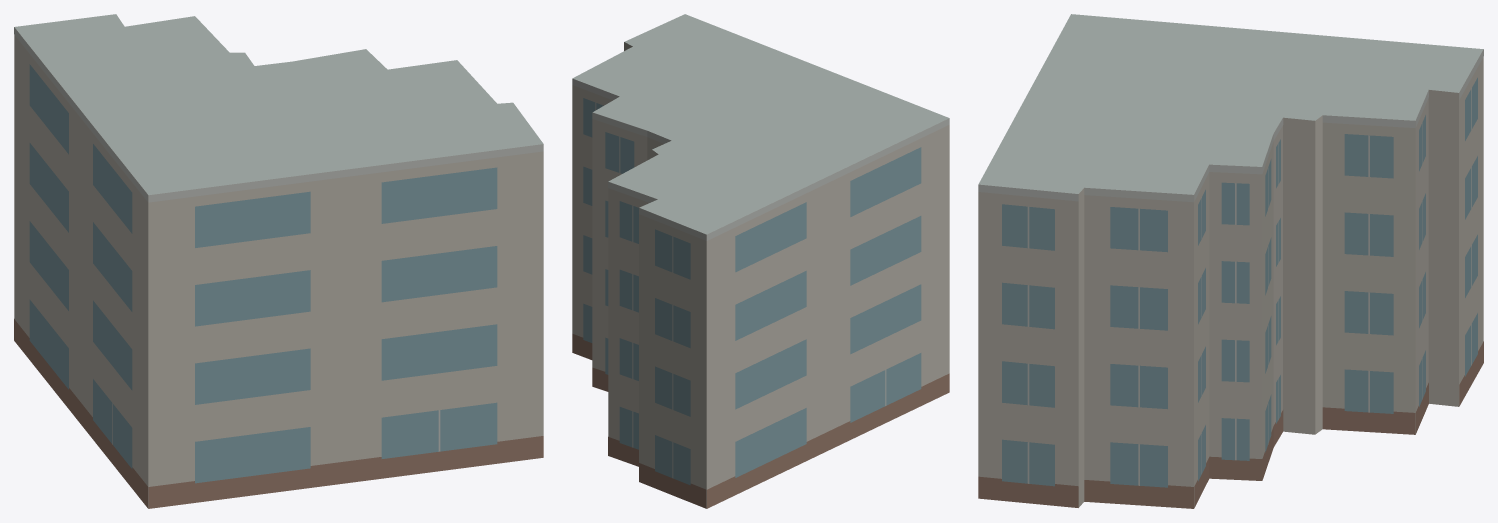
File: survey-upis-32618166.glb
3 views of the same model, side by side, from view 1: azimuth 30°, elevation 25°; view 2: azimuth 150°, elevation 25°; view 3: azimuth 270°, elevation 25° (orthographic). The views are drawn at different scales.
Visible parts, largest first — view 1: survey-upis-32618166.tmp; view 2: survey-upis-32618166.tmp; view 3: survey-upis-32618166.tmp.
Boxes of the visible parts, bbox=[...] form: survey-upis-32618166.tmp: bbox=[14, 14, 543, 508]; survey-upis-32618166.tmp: bbox=[572, 14, 949, 508]; survey-upis-32618166.tmp: bbox=[978, 14, 1483, 508].
Size of the model in its own units: 12.86 by 10.4 by 15.18.
